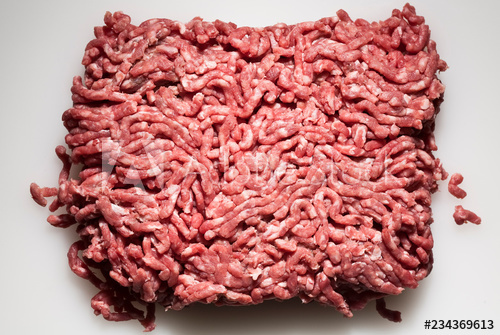ground_beef: (65, 16, 449, 307)
